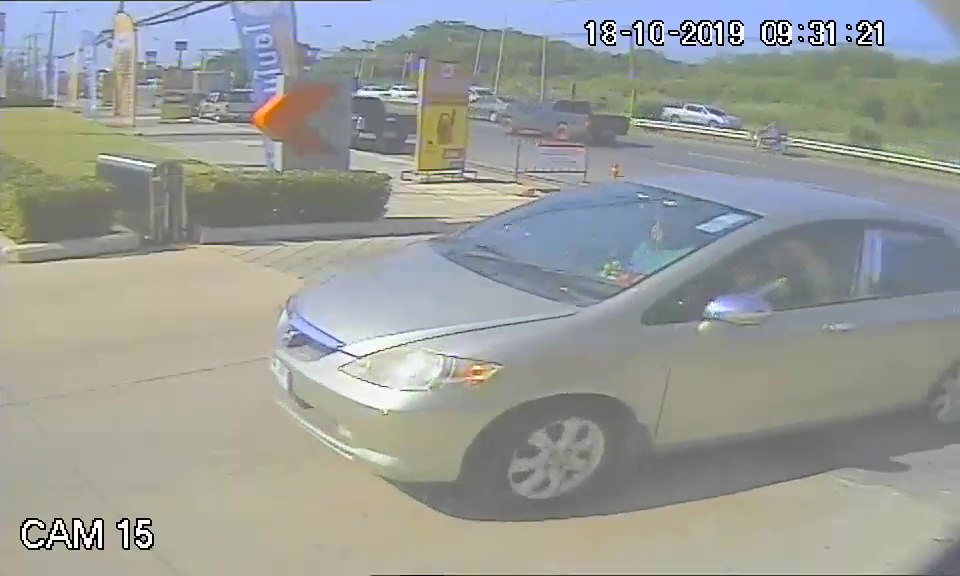sedan: (265, 172, 960, 497)
